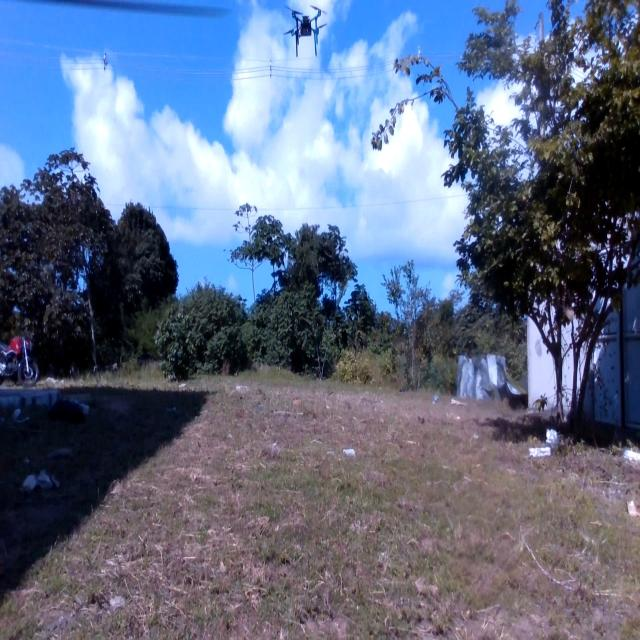-uav-: (276, 0, 331, 65)
